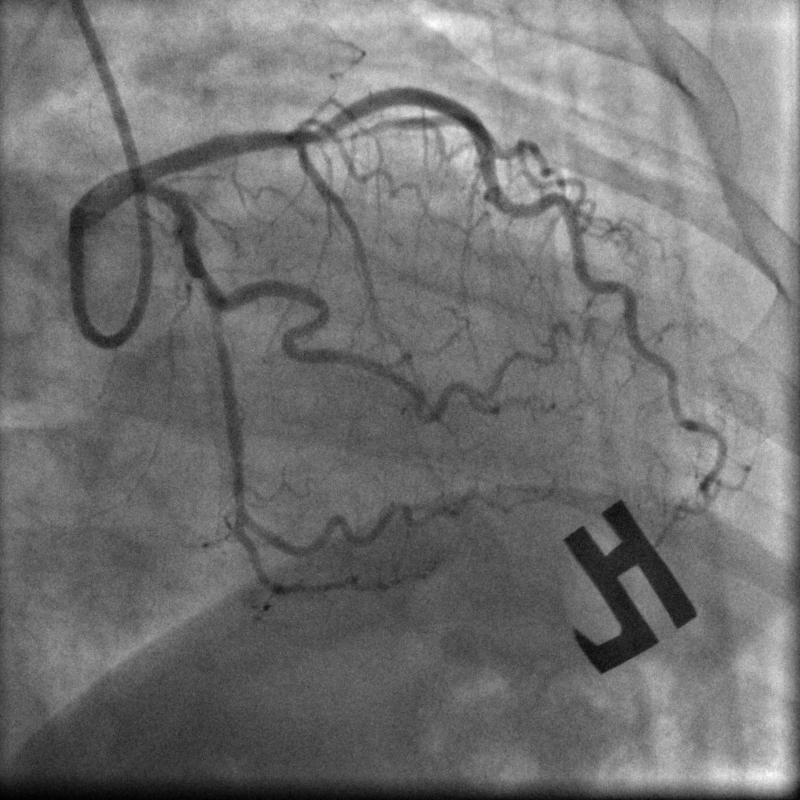Stenosis: (174, 234, 226, 300)
